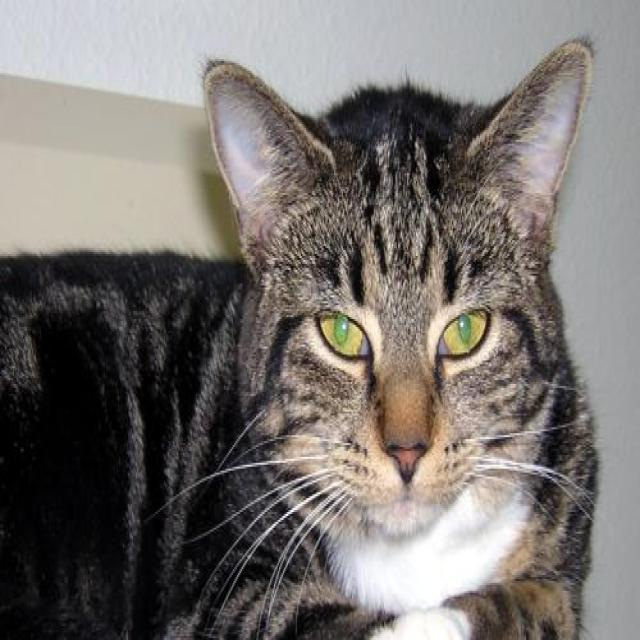Cat: (0, 33, 600, 638)
